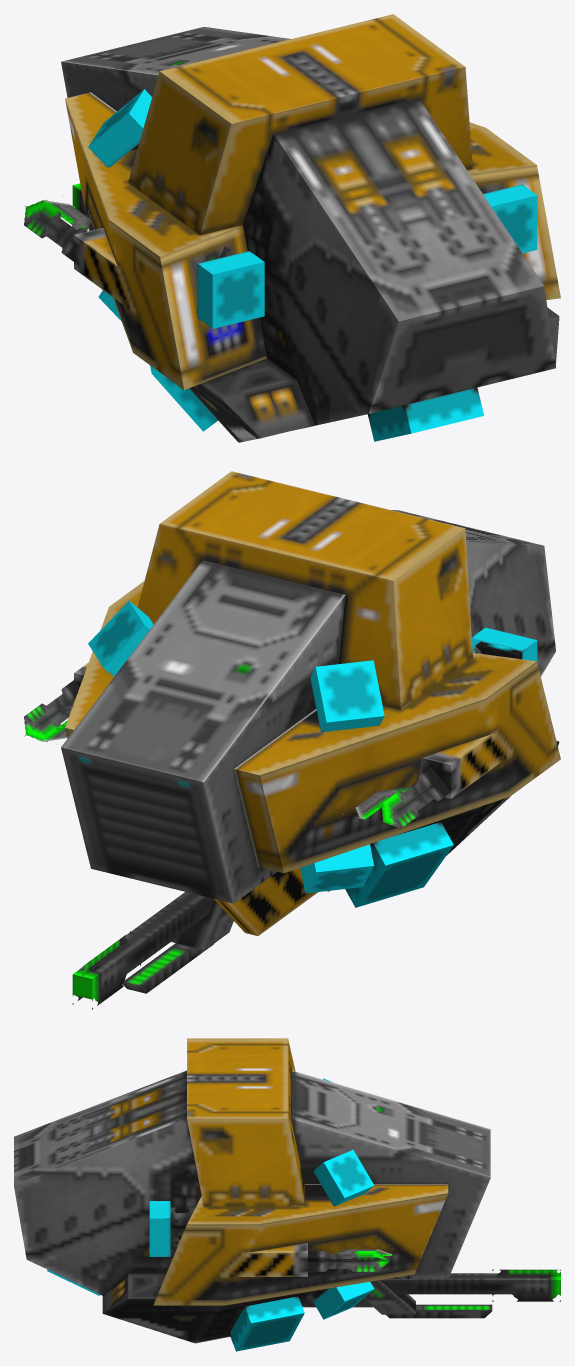
File: astro_miner.obj
3 views of the same model, one above another, from view 1: azimuth 30°, elevation 25°; view 2: azimuth 150°, elevation 25°; view 3: azimuth 270°, elevation 25° (orthographic). The views are drawn at different scales.
Visible parts, largest first — view 1: Hull, Glow, Lasers_Main_Laser_Base; view 2: Hull, Glow, Lasers_Main_Laser_Base, Main_Laser_Front, Main_Laser_Left_Guard, Main_Laser_Center; view 3: Hull, Glow, Main_Laser_Front, Lasers_Main_Laser_Base, Main_Laser_Center, HoverPad.
Boxes of the visible parts, box(x1,y1,x2,y2) form: Hull: box(61, 14, 560, 442); Glow: box(88, 89, 537, 441); Lasers_Main_Laser_Base: box(24, 196, 124, 305); Hull: box(61, 471, 560, 903); Glow: box(88, 601, 537, 907); Lasers_Main_Laser_Base: box(24, 663, 501, 828); Main_Laser_Front: box(72, 892, 213, 1009); Main_Laser_Left_Guard: box(213, 868, 317, 935); Main_Laser_Center: box(171, 900, 233, 949); Hull: box(14, 1038, 490, 1343); Glow: box(47, 1078, 374, 1351); Main_Laser_Front: box(382, 1269, 560, 1318); Lasers_Main_Laser_Base: box(237, 1243, 392, 1307); Main_Laser_Center: box(364, 1280, 415, 1314); HoverPad: box(170, 1207, 327, 1293).
Size of the model in its own units: 36.25 by 30.94 by 64.84.
